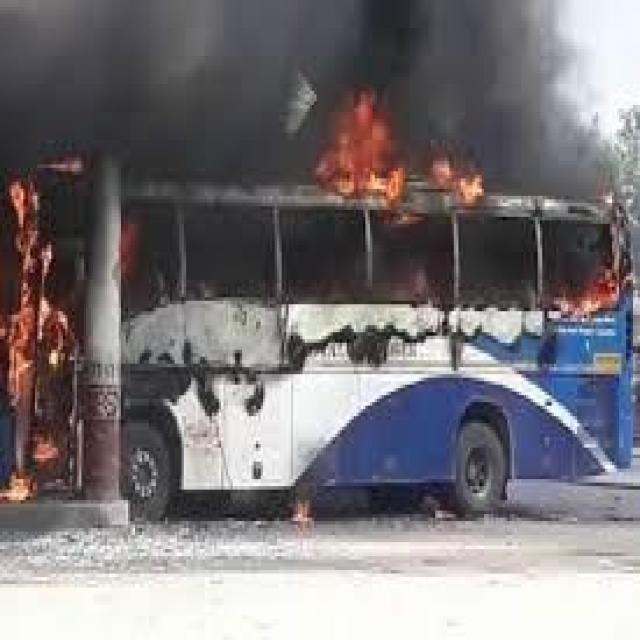Fire: (0, 168, 102, 514), (302, 80, 493, 252), (535, 175, 638, 332), (0, 434, 65, 528)
Smoke: (0, 0, 617, 189)
